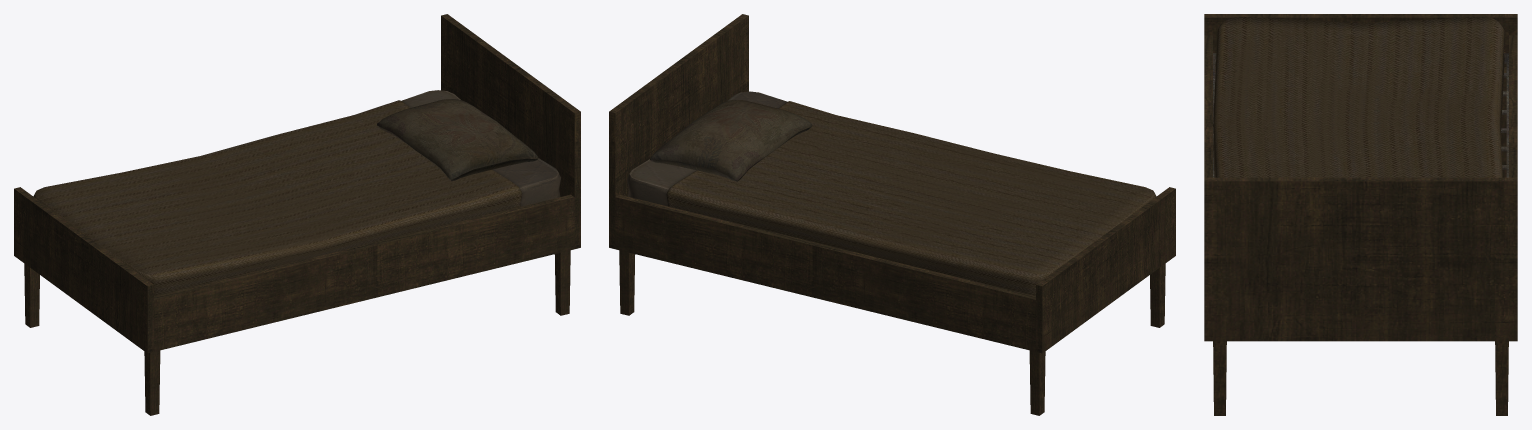
File: bed_3_b_3_made.dae
3 renders of one model, left to right at view 1: azimuth 30°, elevation 25°; view 2: azimuth 150°, elevation 25°; view 3: azimuth 270°, elevation 25°, orthographic. The views are drawn at different scales.
Visible parts, largest first — view 1: bed_3_b_3_made; view 2: bed_3_b_3_made; view 3: bed_3_b_3_made.
Boxes of the visible parts, x1,y1,x2,y2 form: bed_3_b_3_made: [14, 14, 580, 415]; bed_3_b_3_made: [609, 14, 1175, 415]; bed_3_b_3_made: [1204, 14, 1517, 415].
Bounding box in the file's own units: 2.7 × 1.44 × 1.21.
Materials: 4 (4 with a texture image).
